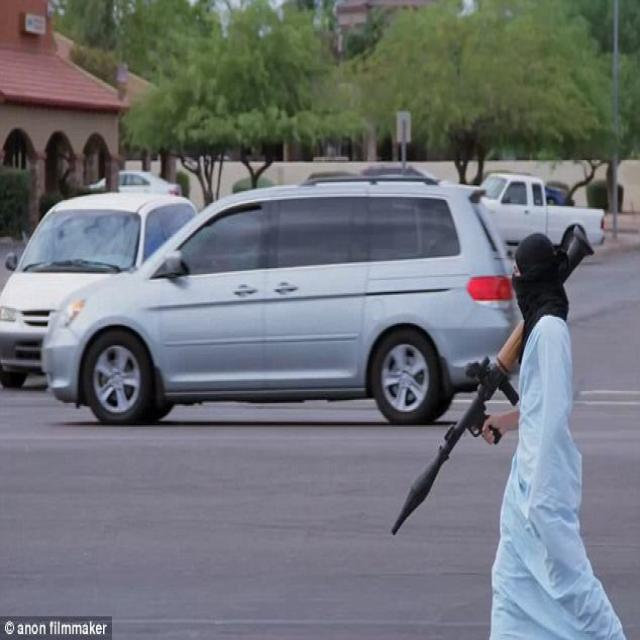bazooka: (371, 203, 597, 568)
